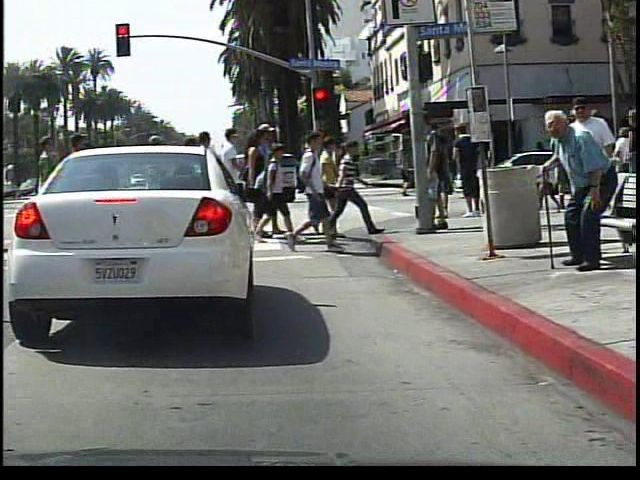person: (529, 113, 623, 279), (392, 138, 411, 198)
